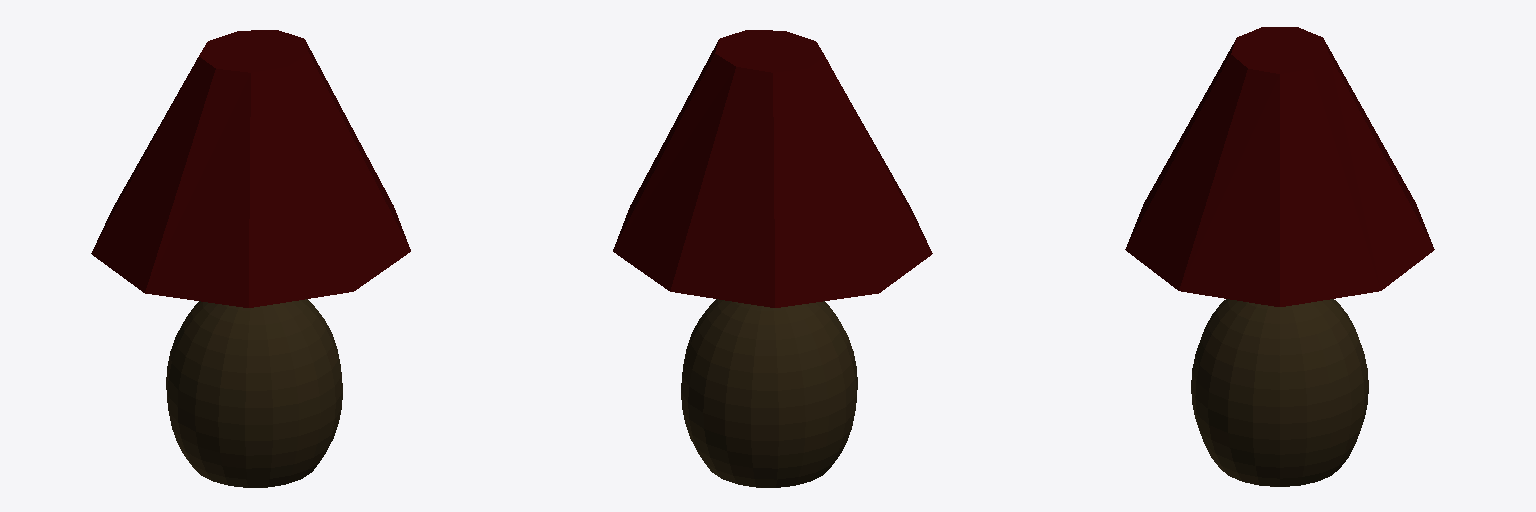
Rendered from LampExport.obj.
The picture shows the model from 3 angles: view 1: azimuth 30°, elevation 25°; view 2: azimuth 150°, elevation 25°; view 3: azimuth 270°, elevation 25°; orthographic projection.
Parts seen in each view (by area): view 1: lamp_base2; view 2: lamp_base2; view 3: lamp_base2.
Part boxes in pixels (left/top/right/bottom): lamp_base2: left=91, top=30, right=410, bottom=487; lamp_base2: left=613, top=30, right=932, bottom=487; lamp_base2: left=1125, top=27, right=1434, bottom=486.
Bounding box in the file's own units: 8.91 × 12.67 × 8.65.